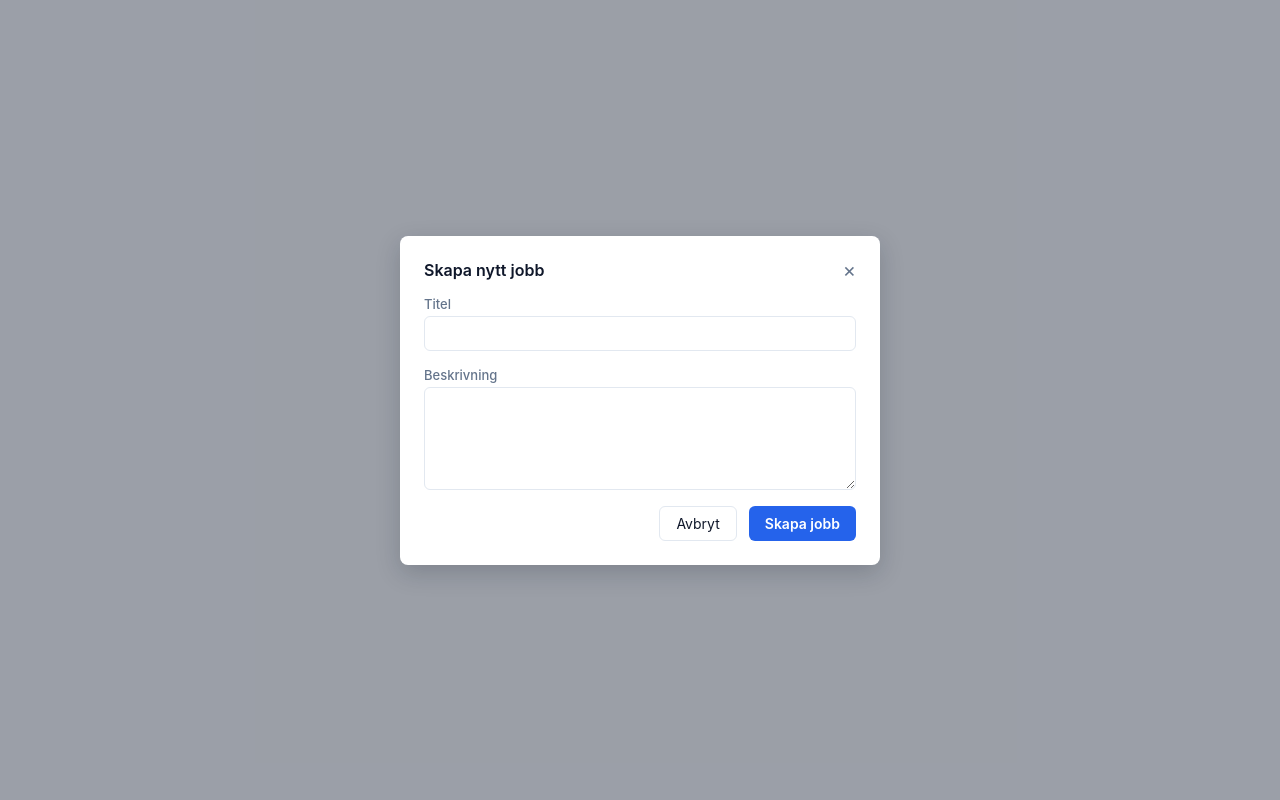
JobFormModal › shows an inline error and keeps the modal open when the submission fails
In the field labelled "Titel": (640, 333) [424,316,856,350], type "New role"
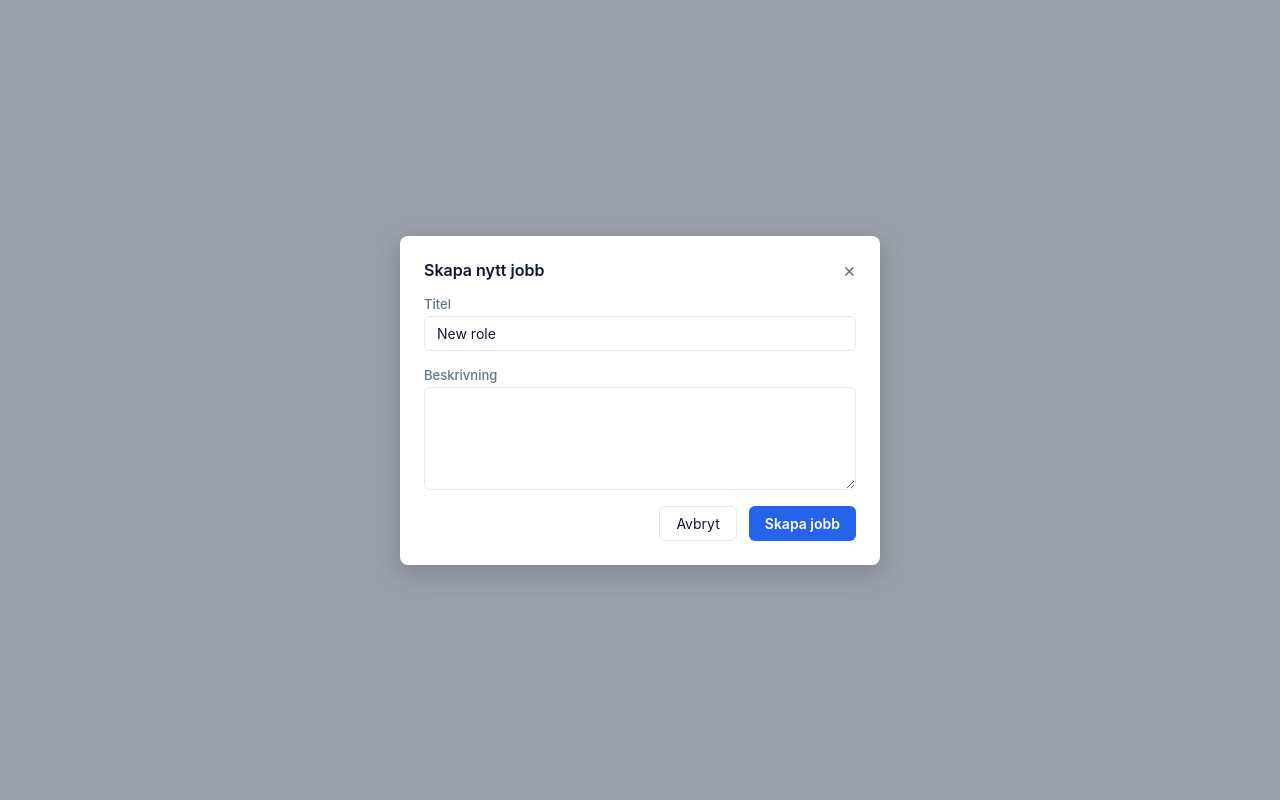
In the text box labelled "Beskrivning": (640, 438) [424,386,856,490], type "A description"
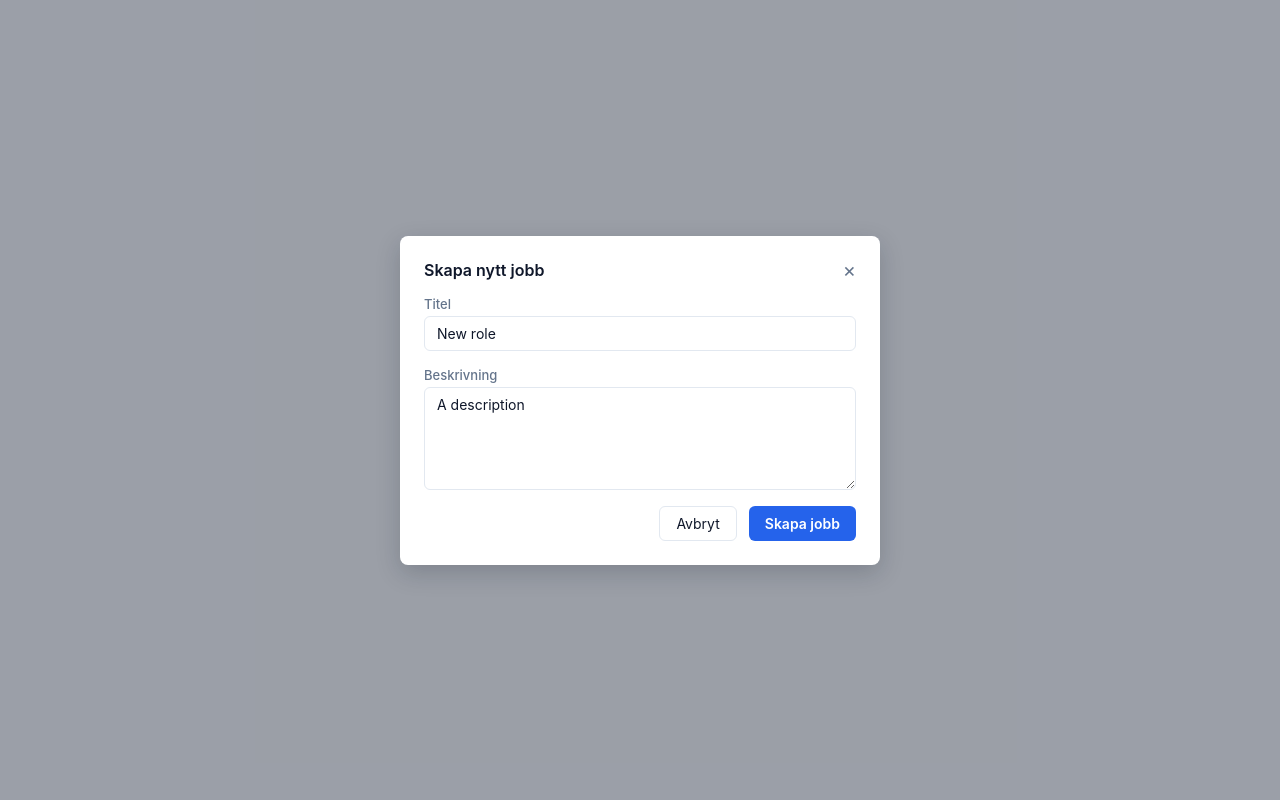
Click the button "Skapa jobb": click(802, 523) [749,506,856,540]
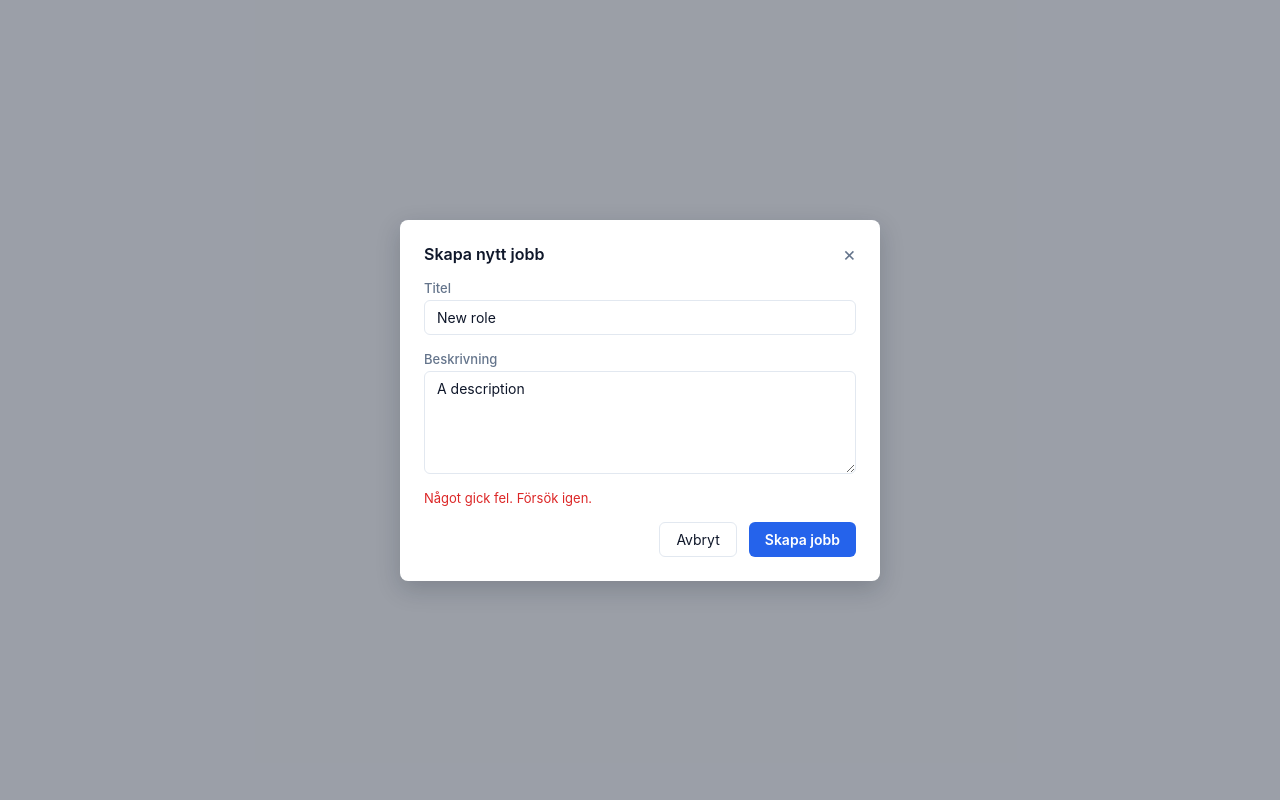
Now the message reads "Något gick fel. Försök igen.", box [424,490,592,506]
